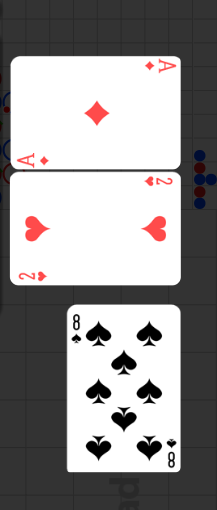2H: (142, 175, 174, 188)
8S: (166, 436, 178, 469)
AD: (142, 59, 177, 75)
